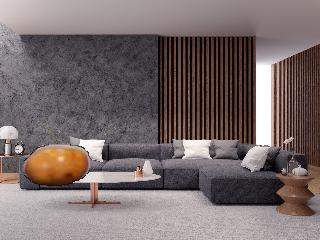potato: (22, 142, 93, 188)
